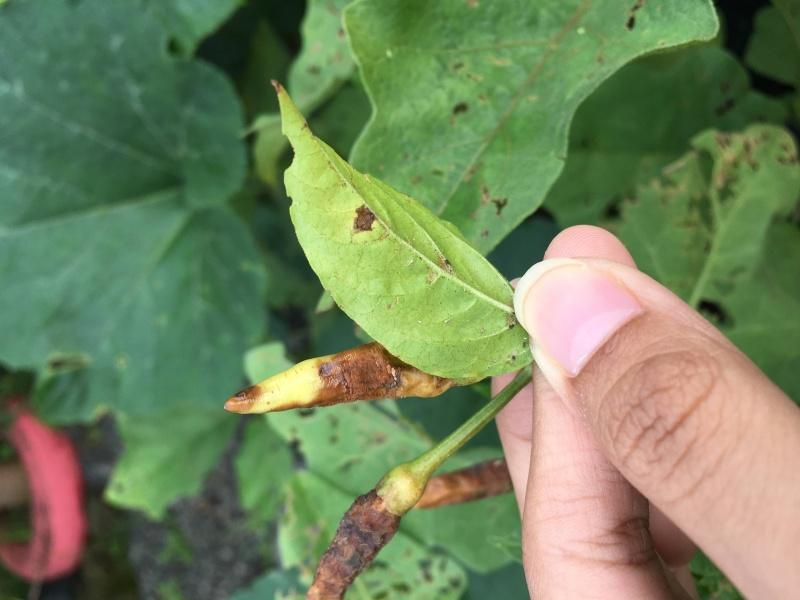antraknosa: (222, 336, 454, 417), (308, 486, 410, 600)
